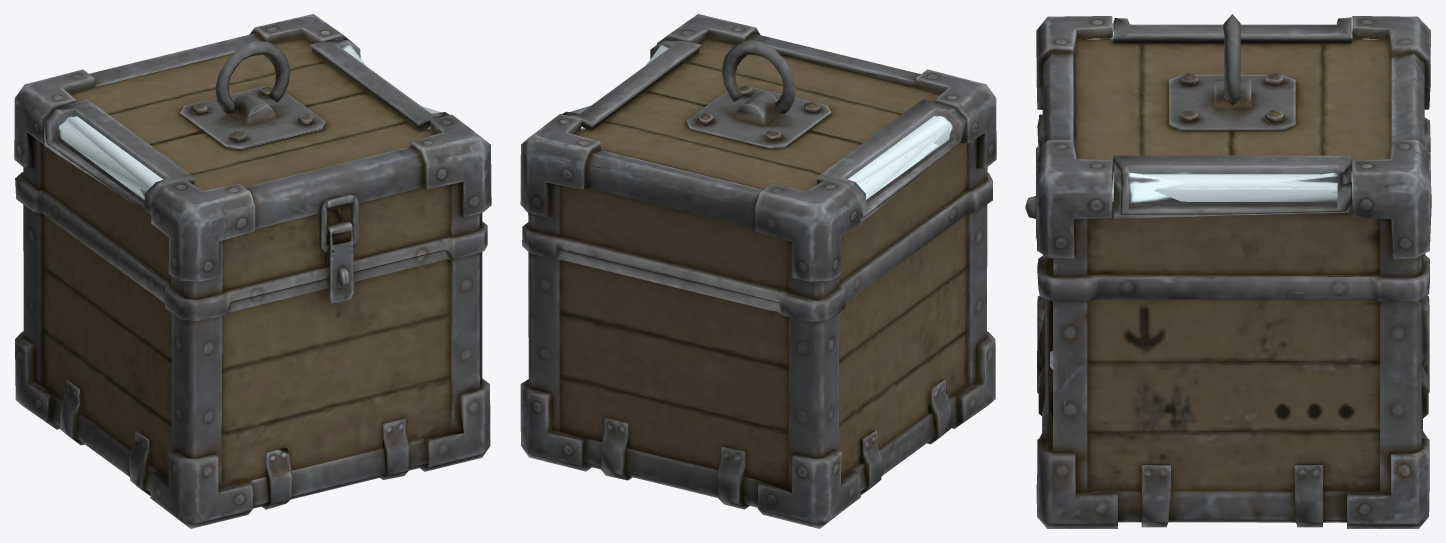
Rendered from pickup_crate.glb.
3 renders of one model, left to right at view 1: azimuth 30°, elevation 25°; view 2: azimuth 150°, elevation 25°; view 3: azimuth 270°, elevation 25°, orthographic. The views are drawn at different scales.
Parts seen in each view (by area): view 1: geometry_0; view 2: geometry_0; view 3: geometry_0.
Part boxes in pixels (box(x1,y1,x2,y2)): geometry_0: box(14, 14, 491, 528); geometry_0: box(520, 14, 996, 528); geometry_0: box(1025, 14, 1431, 528).
Size of the model in its own units: 0.7998 by 0.9541 by 0.813.
1 material, 1 textured.
